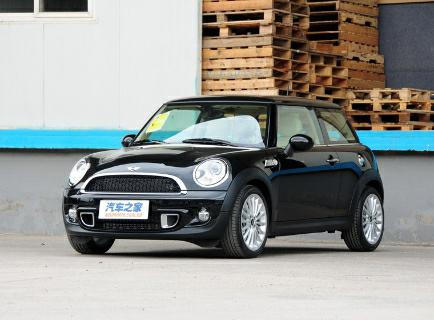MINI: (61, 99, 381, 261)
